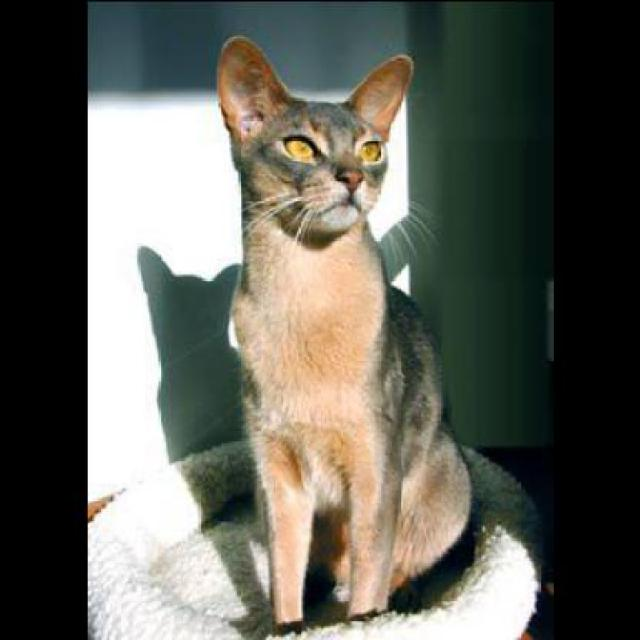unauthorized: (214, 32, 472, 637)
